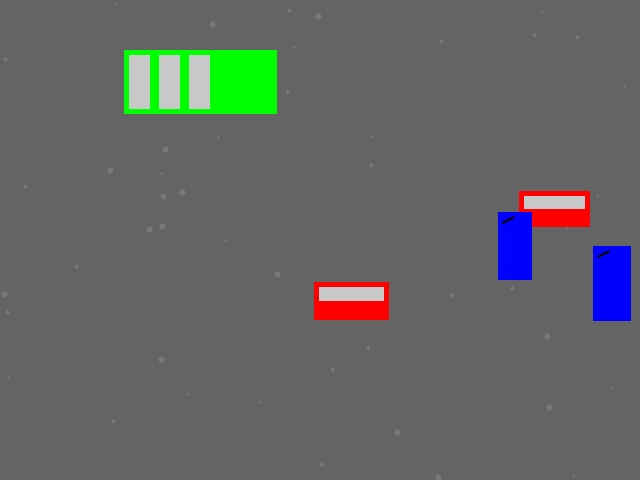bus: (124, 50, 276, 113)
car: (314, 282, 388, 319), (519, 191, 589, 226)
motorcycle: (593, 246, 630, 320), (498, 212, 531, 279)
